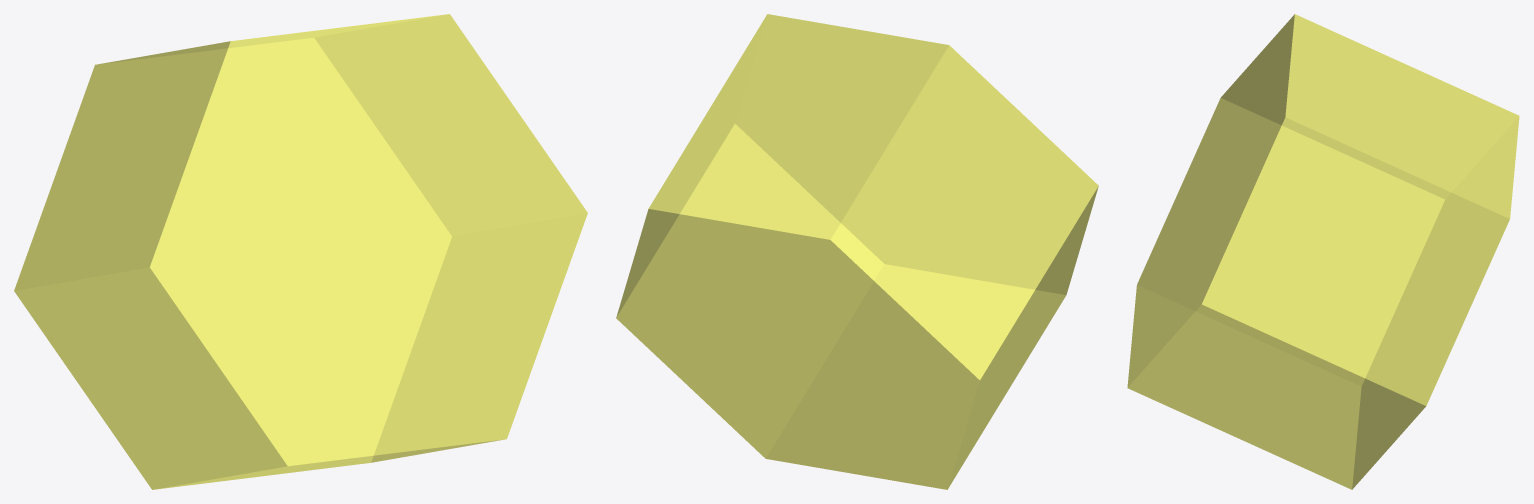
3 views of the same model, side by side, from view 1: azimuth 30°, elevation 25°; view 2: azimuth 150°, elevation 25°; view 3: azimuth 270°, elevation 25° (orthographic). The views are drawn at different scales.
Parts seen in each view (by area): view 1: root; view 2: root; view 3: root.
Boxes of the visible parts, x1,y1,x2,y2 form: root: (14,14,587,489); root: (616,14,1098,489); root: (1127,14,1519,489).
Size of the model in its own units: 4.87 by 5.34 by 4.68.
